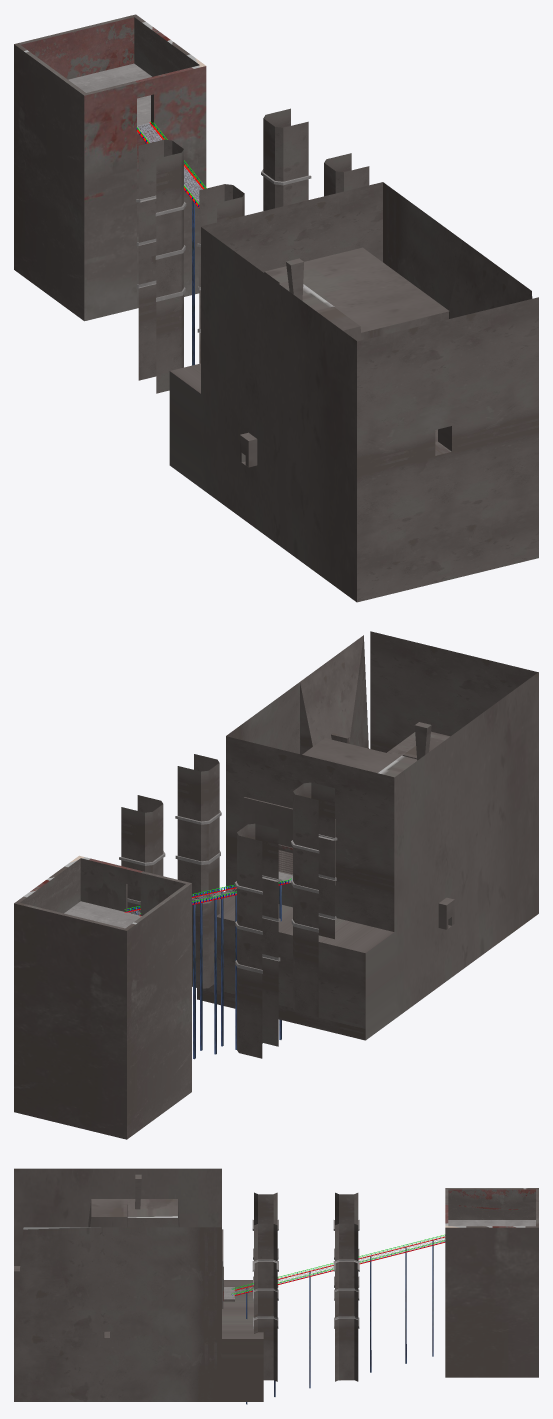
File: LocalArenaFinal.fbx
3 renders of one model, top to bottom at view 1: azimuth 30°, elevation 25°; view 2: azimuth 150°, elevation 25°; view 3: azimuth 270°, elevation 25°, orthographic. The views are drawn at different scales.
Parts seen in each view (by area): view 1: Sala1, Arena beta, Plataforma2.012; view 2: Sala1, Arena beta, Plataforma2.012; view 3: Sala1, Arena beta, Plataforma2.012.
Boxes of the visible parts, <box> form: Sala1: <box>169,182,538,602</box>; Arena beta: <box>14,14,369,393</box>; Plataforma2.012: <box>136,121,206,365</box>; Sala1: <box>197,631,538,1040</box>; Arena beta: <box>14,754,337,1139</box>; Plataforma2.012: <box>124,878,291,1059</box>; Sala1: <box>14,1168,263,1401</box>; Arena beta: <box>252,1188,538,1381</box>; Plataforma2.012: <box>231,1234,445,1404</box>.
Size of the model in its own units: 9801 by 13768 by 32968.
